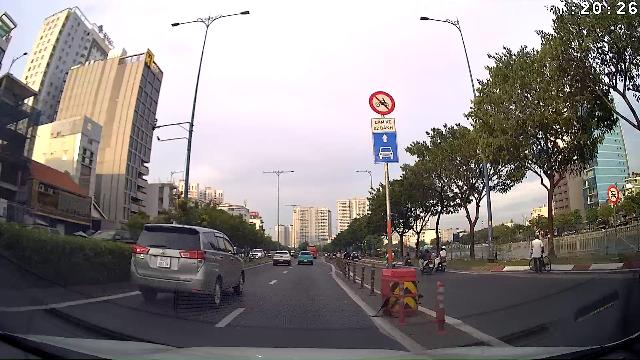103a-cam-oto: (607, 185, 619, 204)
